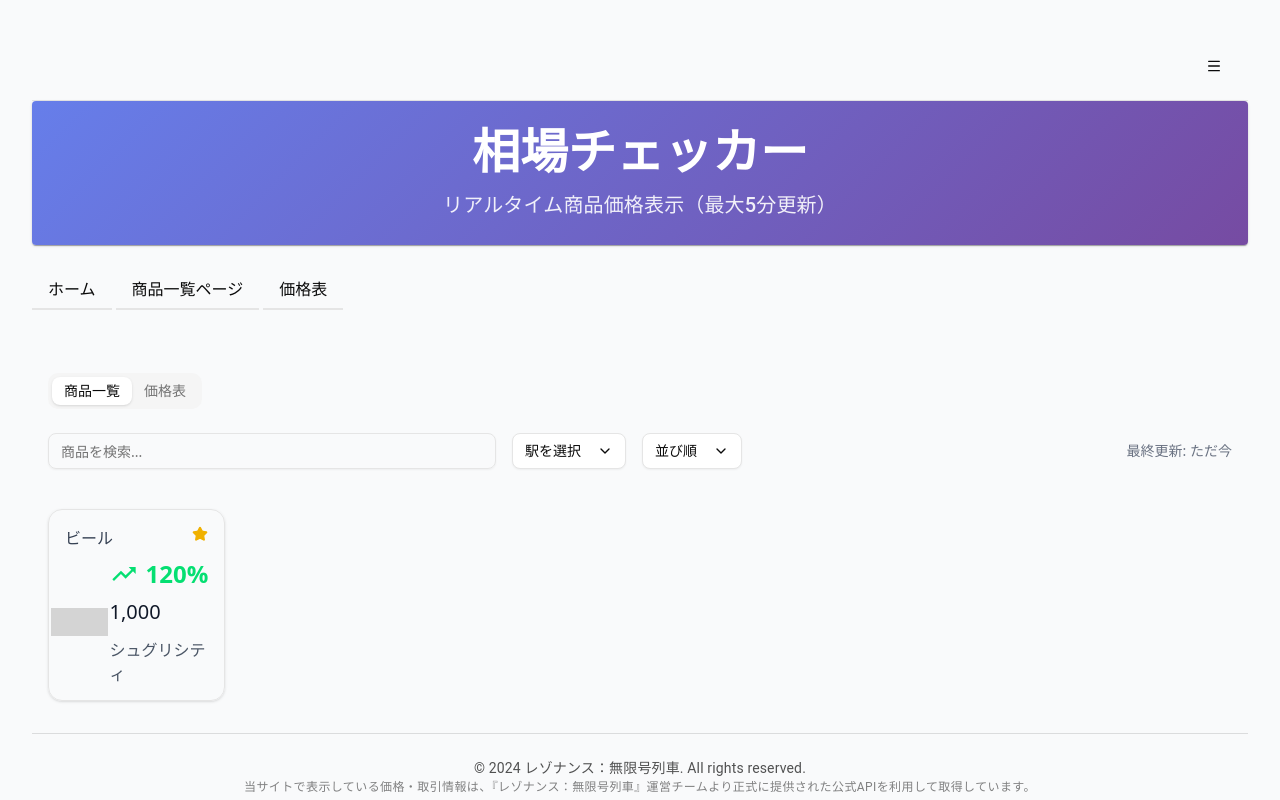
Scenario: Home › filters cards by search query
Expected: the text "ビール" is shown, [65,527,113,549]
Type "ワイン" into the field with placeholder "商品を検索..." at [272, 451], box [48,433,496,469]
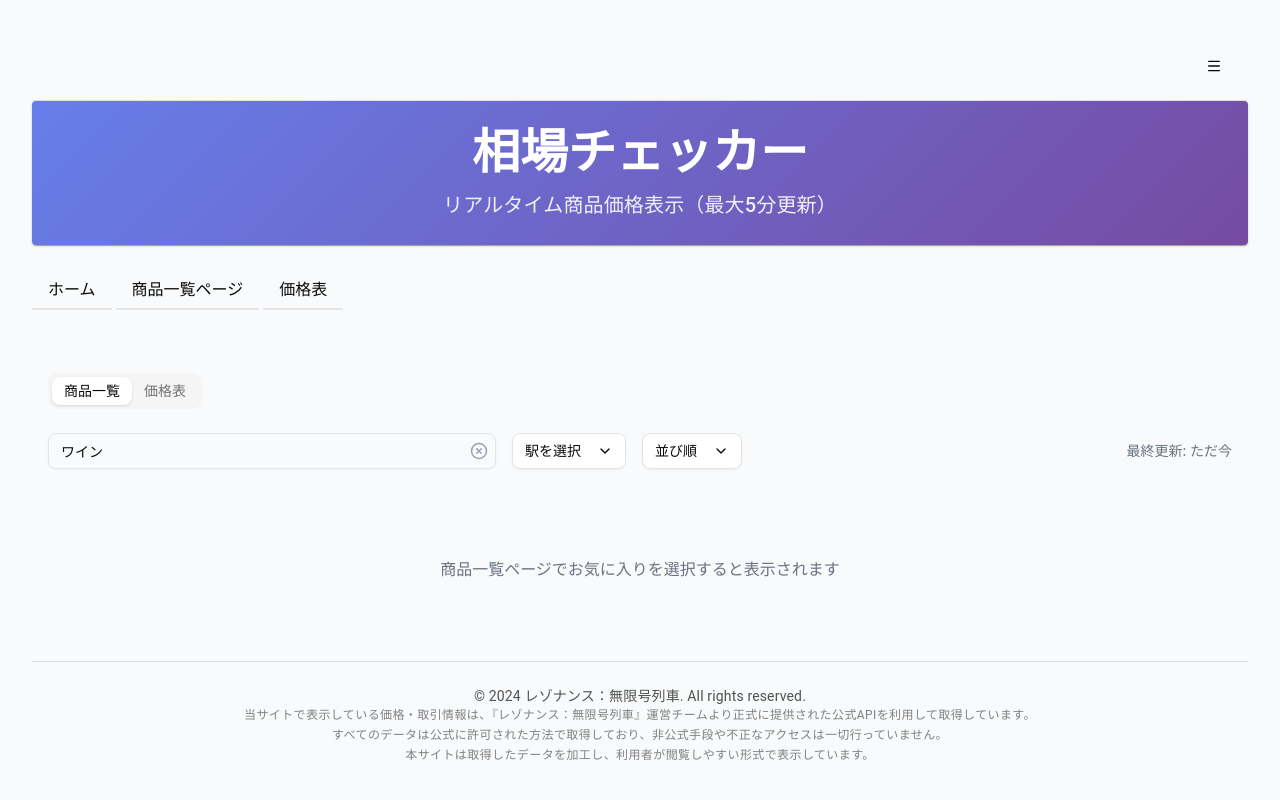
Expected: the text "商品一覧ページでお気に入りを選択すると表示されます" is shown, [440,558,840,580]
